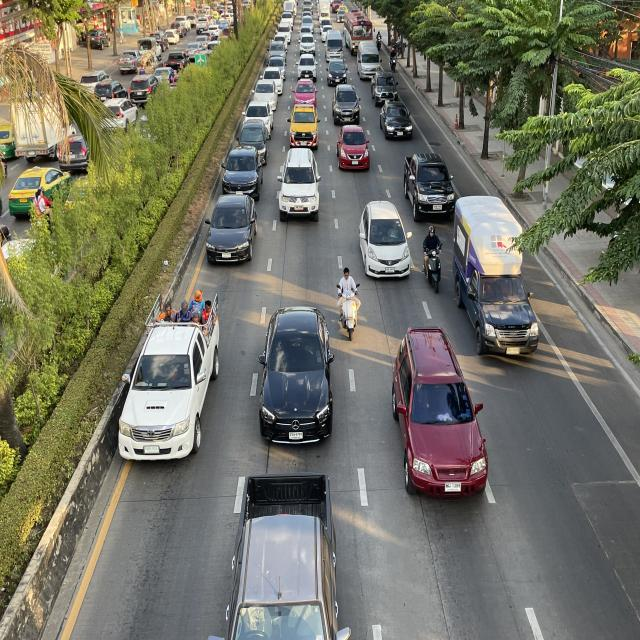bike: (336, 266, 363, 341), (421, 224, 444, 294)
car: (221, 469, 349, 640), (388, 324, 492, 504), (256, 304, 336, 450), (359, 200, 412, 281), (204, 194, 258, 267), (404, 150, 456, 222), (277, 148, 322, 223), (220, 144, 264, 201), (335, 124, 372, 171), (380, 100, 414, 142)
truck: (118, 291, 221, 465), (452, 194, 540, 358), (286, 104, 321, 150)
